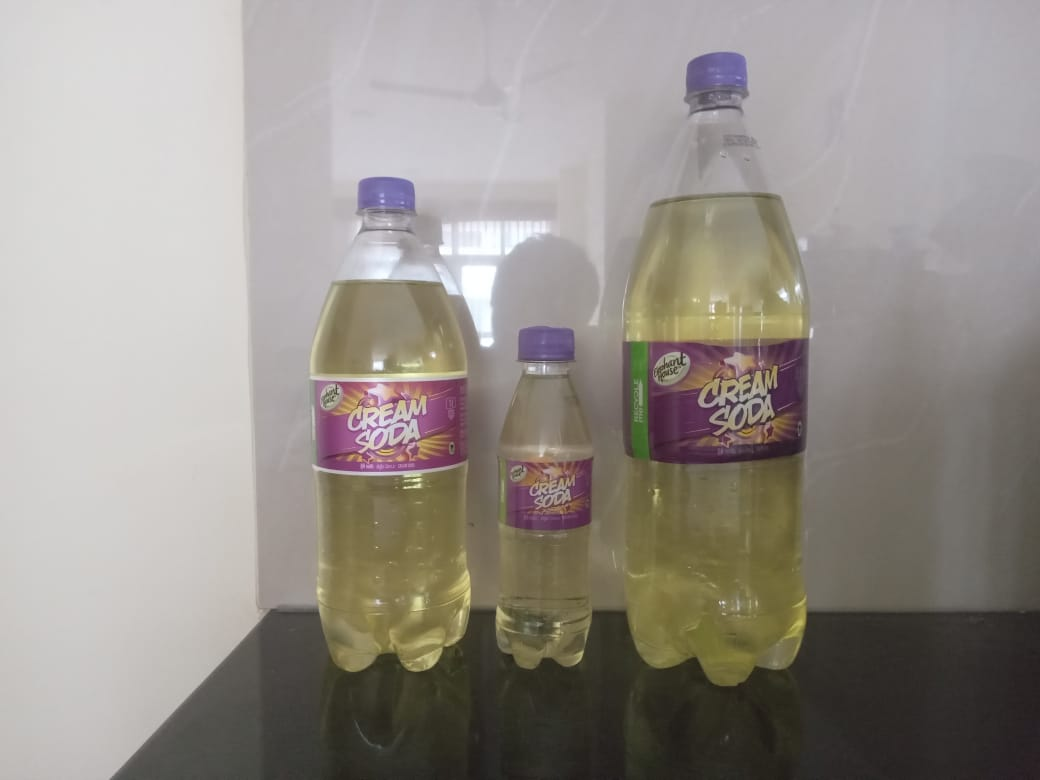L: (621, 48, 812, 696)
M: (307, 175, 475, 678)
Xs: (492, 326, 601, 676)
